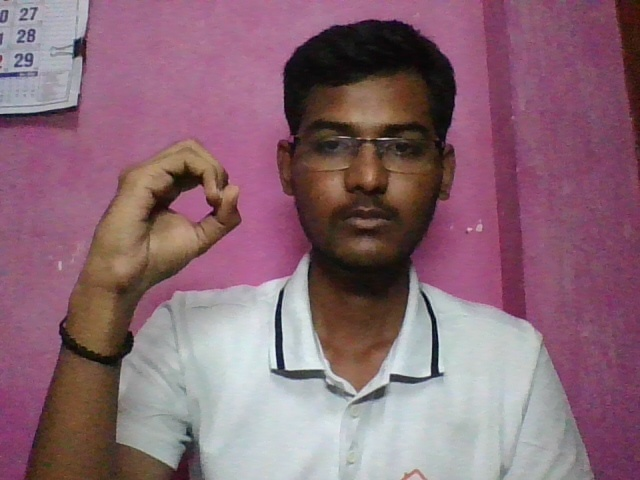Hello: (83, 124, 253, 296)
